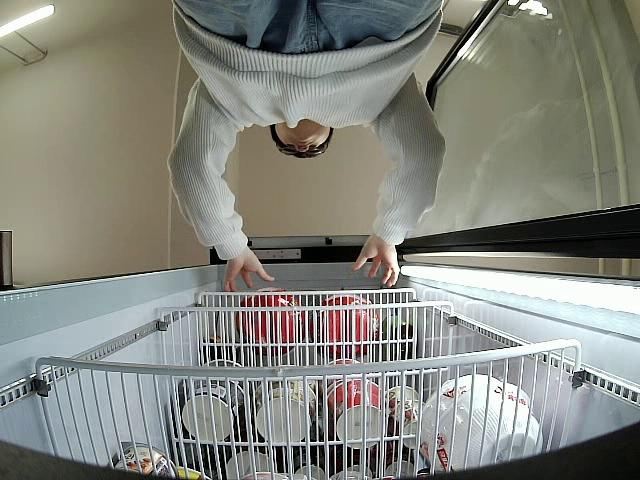00_hand: (355, 235, 401, 286), (221, 255, 275, 291)
